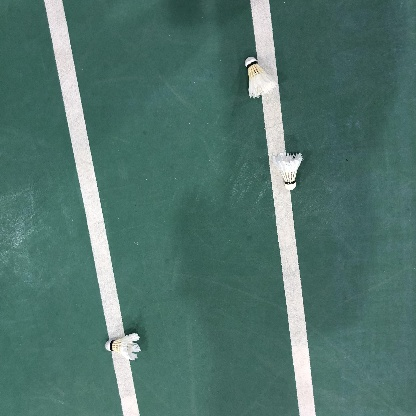ball_single: (245, 57, 277, 99), (273, 153, 303, 190), (105, 332, 141, 360)
